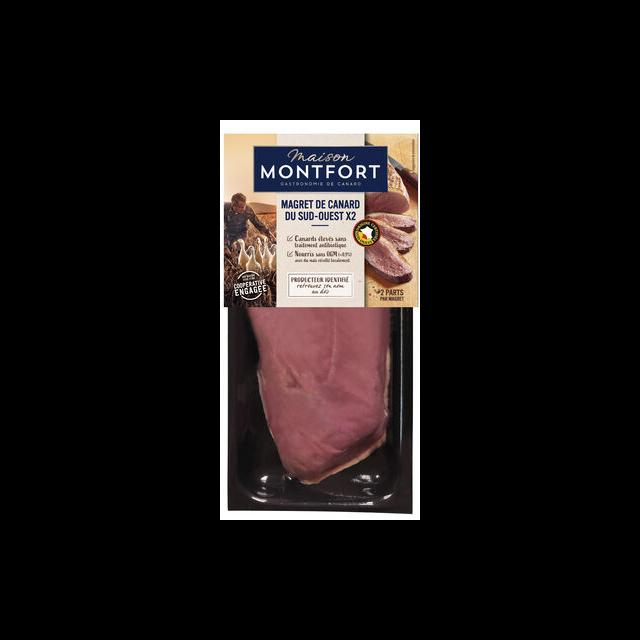beef: (250, 306, 392, 481)
